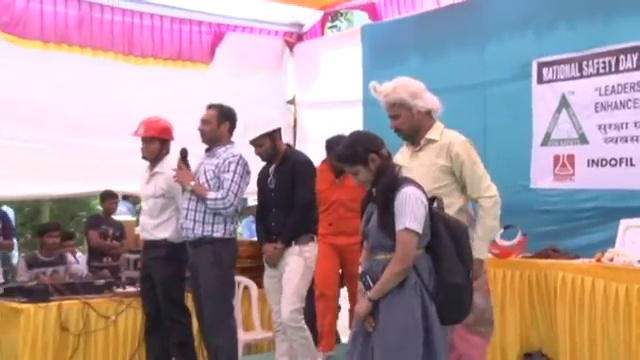helmet: (246, 114, 286, 146), (133, 117, 175, 144)
helmet_off: (372, 79, 449, 140), (336, 131, 389, 192), (191, 105, 238, 153), (321, 133, 354, 183), (35, 224, 68, 254), (96, 190, 121, 219)
helmet_on: (132, 118, 176, 169), (250, 117, 285, 166)
person: (335, 134, 475, 357), (368, 77, 506, 272), (171, 96, 252, 360), (249, 117, 320, 359), (133, 114, 193, 360), (313, 132, 369, 358), (15, 220, 92, 288), (81, 193, 129, 279)
